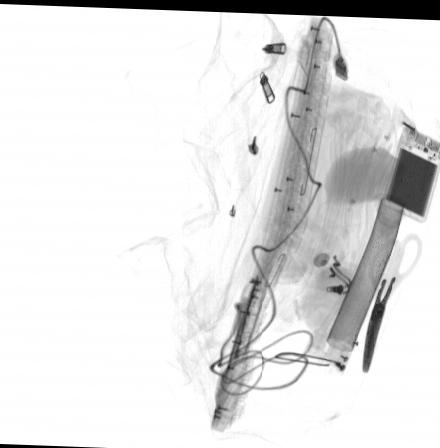Powerbank: (380, 117, 440, 222)
Scissors: (360, 231, 423, 372)
